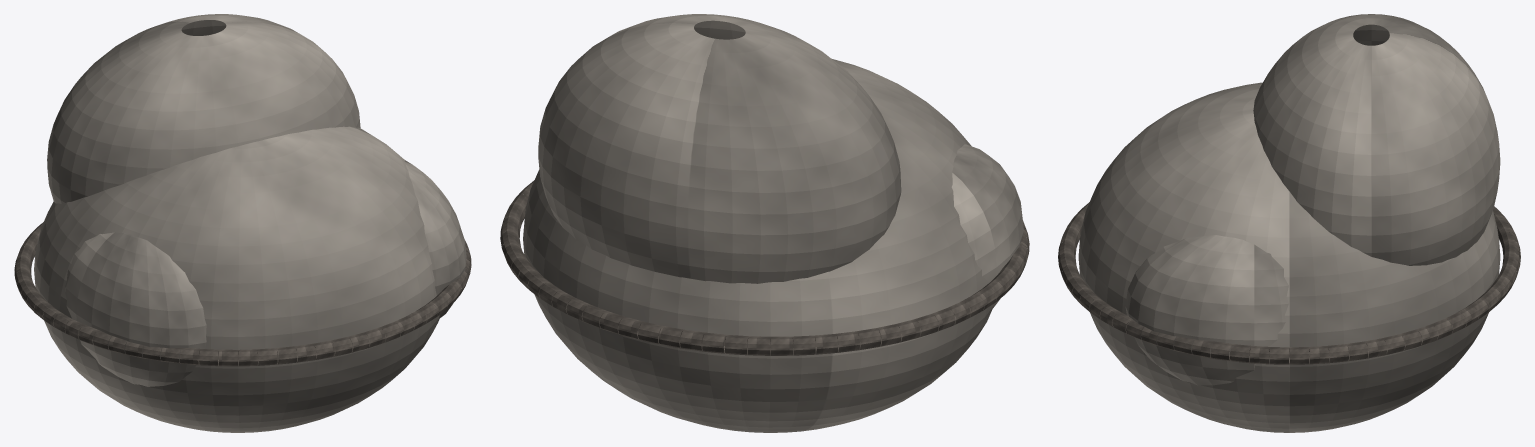
File: bean.glb
The picture shows the model from 3 angles, left to right: view 1: azimuth 30°, elevation 25°; view 2: azimuth 150°, elevation 25°; view 3: azimuth 270°, elevation 25°; orthographic projection. The views are drawn at different scales.
Visible parts, largest first — view 1: bean; view 2: bean; view 3: bean.
Boxes of the visible parts, <box> form: bean: <box>14,14,471,432</box>; bean: <box>500,14,1029,432</box>; bean: <box>1058,14,1520,432</box>.
Bounding box in the file's own units: 0.83 × 0.6976 × 0.79.
6 materials, 6 textured.
